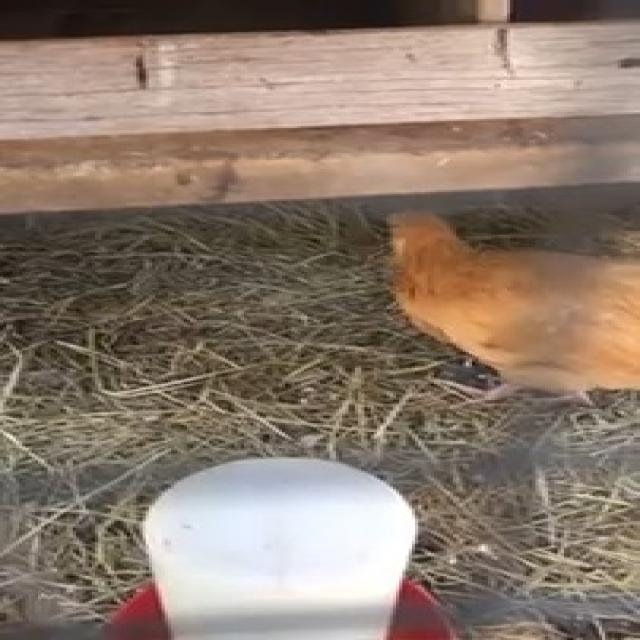Breathing: (380, 205, 637, 407)
